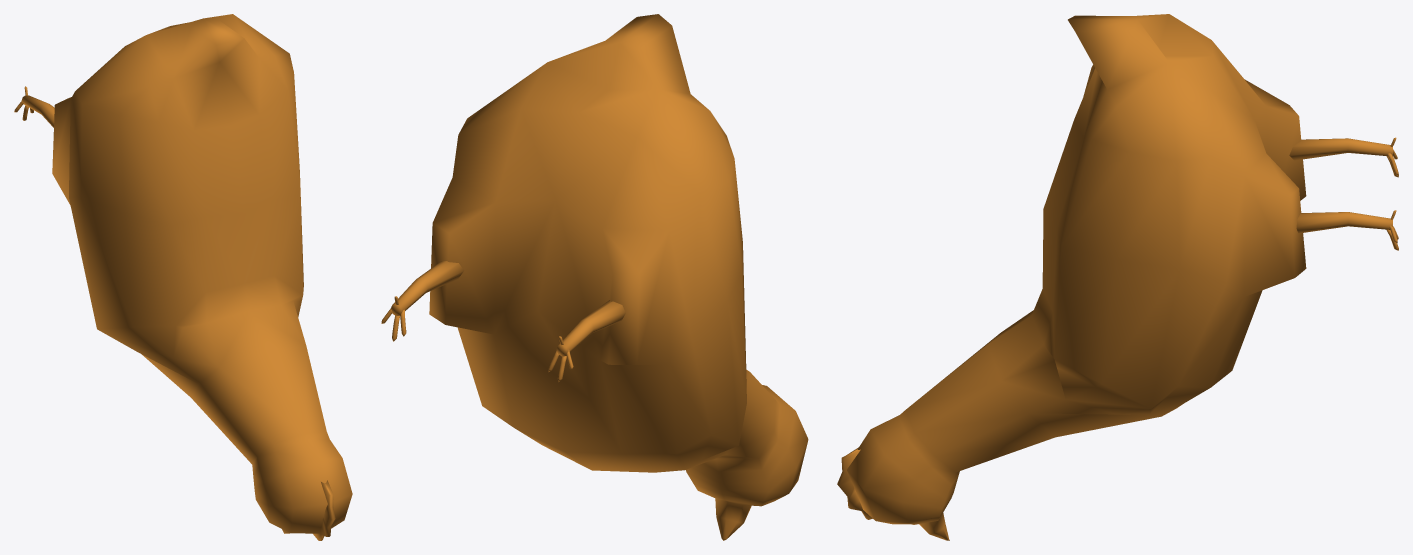
Rendered from chicken.obj.
The picture shows the model from 3 angles, left to right: view 1: azimuth 30°, elevation 25°; view 2: azimuth 150°, elevation 25°; view 3: azimuth 270°, elevation 25°; orthographic projection. The views are drawn at different scales.
Visible parts, largest first — view 1: Cube.001_Cube; view 2: Cube.001_Cube; view 3: Cube.001_Cube.
Part boxes in pixels (<box>): Cube.001_Cube: <box>14,14,352,540</box>; Cube.001_Cube: <box>381,14,808,540</box>; Cube.001_Cube: <box>837,14,1398,540</box>.
Size of the model in its own units: 2.49 by 5.23 by 5.1.
